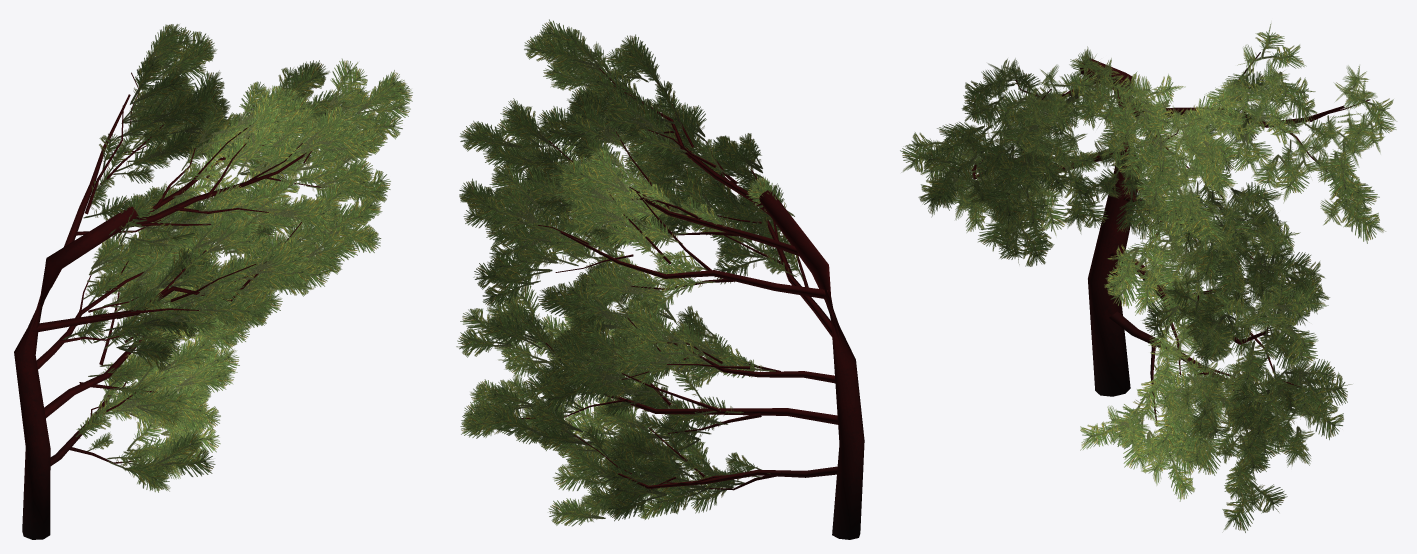
File: krummholz_pine_v03_LOD1.glb
3 views of the same model, side by side, from view 1: azimuth 30°, elevation 25°; view 2: azimuth 150°, elevation 25°; view 3: azimuth 270°, elevation 25° (orthographic). The views are drawn at different scales.
Parts seen in each view (by area): view 1: krummholz_pine_v03_LOD1; view 2: krummholz_pine_v03_LOD1; view 3: krummholz_pine_v03_LOD1.
Part boxes in pixels (x1,y1,x2,y2): krummholz_pine_v03_LOD1: (14, 24, 412, 539); krummholz_pine_v03_LOD1: (456, 19, 864, 539); krummholz_pine_v03_LOD1: (900, 23, 1396, 532).
Bounding box in the file's own units: 3.46 × 3.89 × 3.44.
2 materials, 2 textured.
